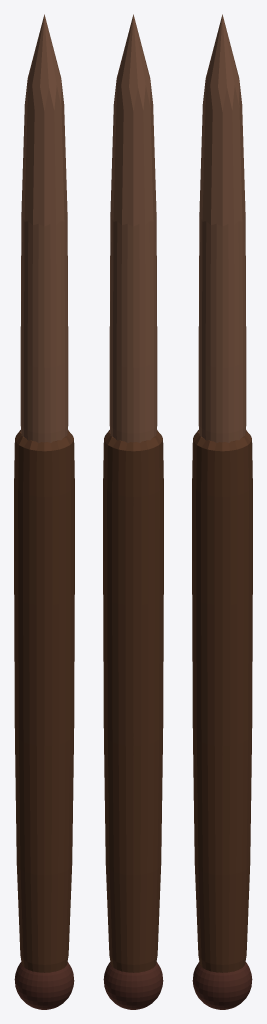
Rendered from Wand 3.glb.
The picture shows the model from 3 angles, left to right: view 1: azimuth 30°, elevation 25°; view 2: azimuth 210°, elevation 25°; view 3: azimuth 330°, elevation 25°; orthographic projection.
Parts seen in each view (by area): view 1: GeneratedWand; view 2: GeneratedWand; view 3: GeneratedWand.
Boxes of the visible parts, bbox=[...] form: GeneratedWand: bbox=[14, 14, 74, 1009]; GeneratedWand: bbox=[103, 14, 163, 1009]; GeneratedWand: bbox=[192, 14, 252, 1009].
Size of the model in its own units: 0.0273 by 0.4914 by 0.0273.
